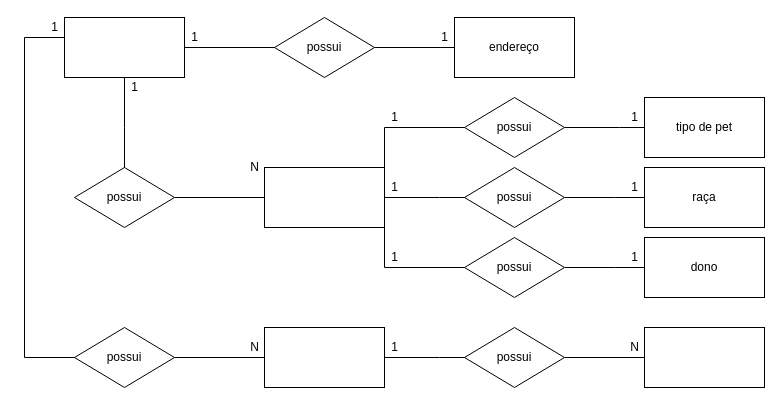
Image size: 782x405. Some labels were removed from this diagram. Each missing label, with the centre of its shape:
atendimentos: the point at 704,357
clinica: the point at 124,47
pet: the point at 324,197
veterinario: the point at 324,357
